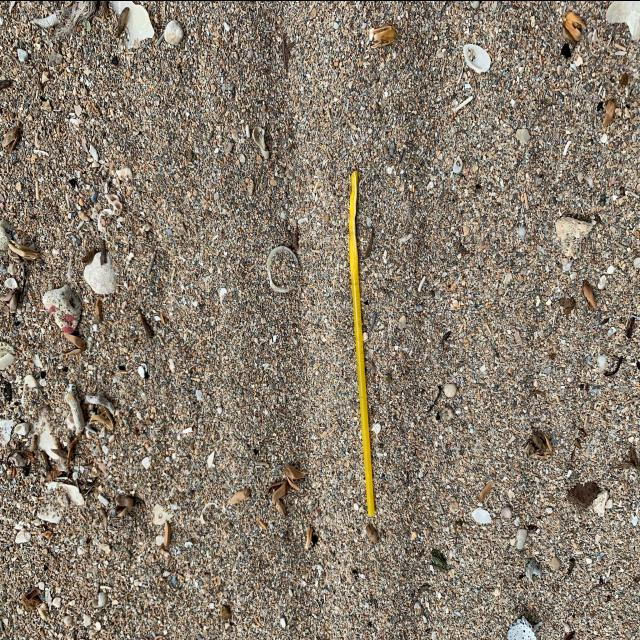Plastic straw: (349, 169, 375, 517)
